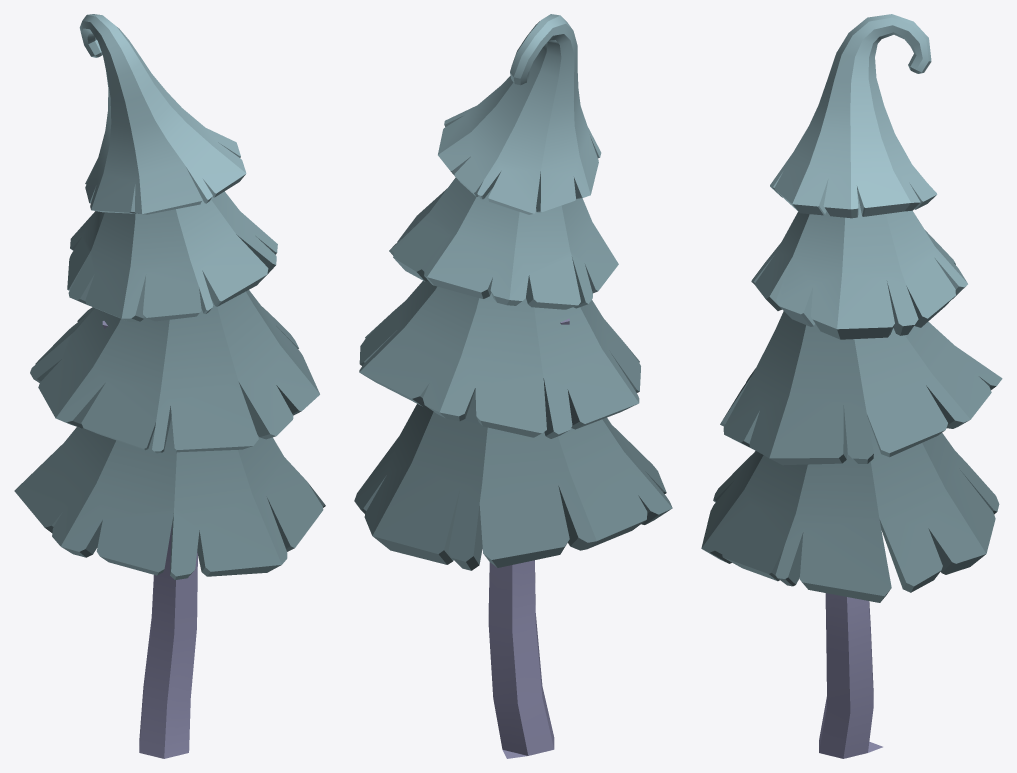
File: Mystic_Tree_M_B2.fbx
3 renders of one model, left to right at view 1: azimuth 30°, elevation 25°; view 2: azimuth 150°, elevation 25°; view 3: azimuth 270°, elevation 25°, orthographic. The views are drawn at different scales.
Visible parts, largest first — view 1: Mystic_Tree_M_B2; view 2: Mystic_Tree_M_B2; view 3: Mystic_Tree_M_B2.
Part boxes in pixels (left/top/right/bottom): Mystic_Tree_M_B2: left=14, top=14, right=325, bottom=758; Mystic_Tree_M_B2: left=354, top=14, right=672, bottom=758; Mystic_Tree_M_B2: left=701, top=14, right=1002, bottom=758.
Size of the model in its own units: 394 by 1028 by 394.
